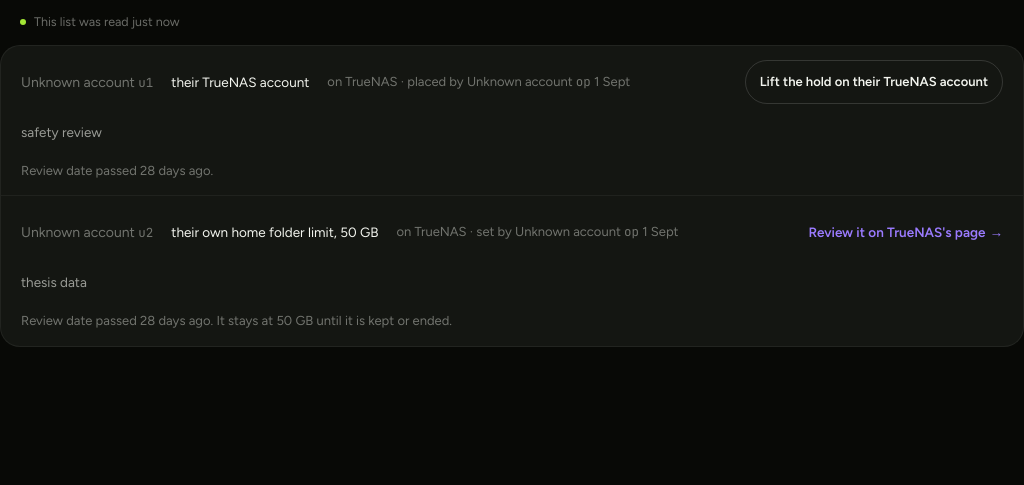
a hold's row states › a failed lift says nothing changed, quotes the reference, and offers Try again
Click the button "Lift the hold on their TrueNAS account".
click(874, 82)  # box left=745, top=60, right=1003, bottom=104
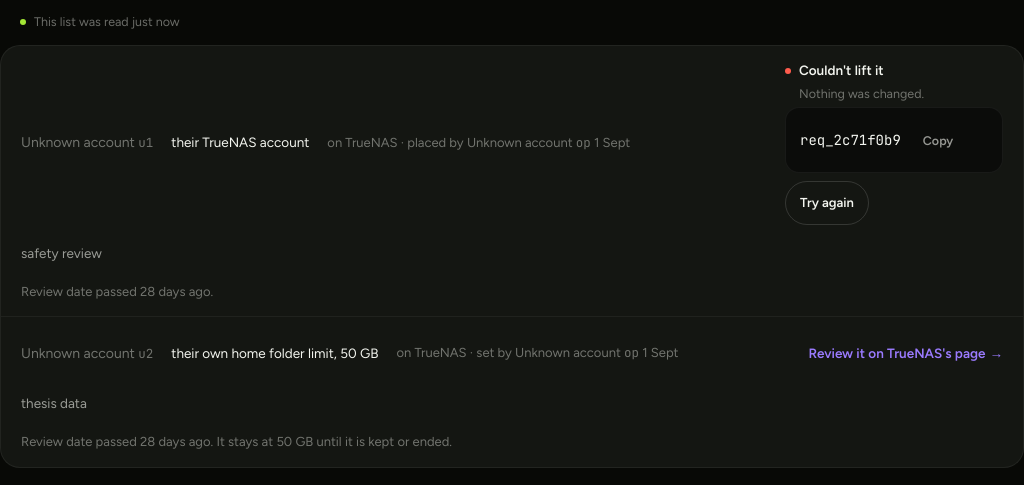
Check: the message shows "Couldn't lift it", box left=799, top=62, right=884, bottom=78
Check: the message shows "Nothing was changed.", box left=799, top=86, right=924, bottom=101
Check: the message shows "req_2c71f0b9", box left=800, top=131, right=901, bottom=149
Click the button "Try again".
click(827, 203)  # box left=785, top=181, right=869, bottom=225
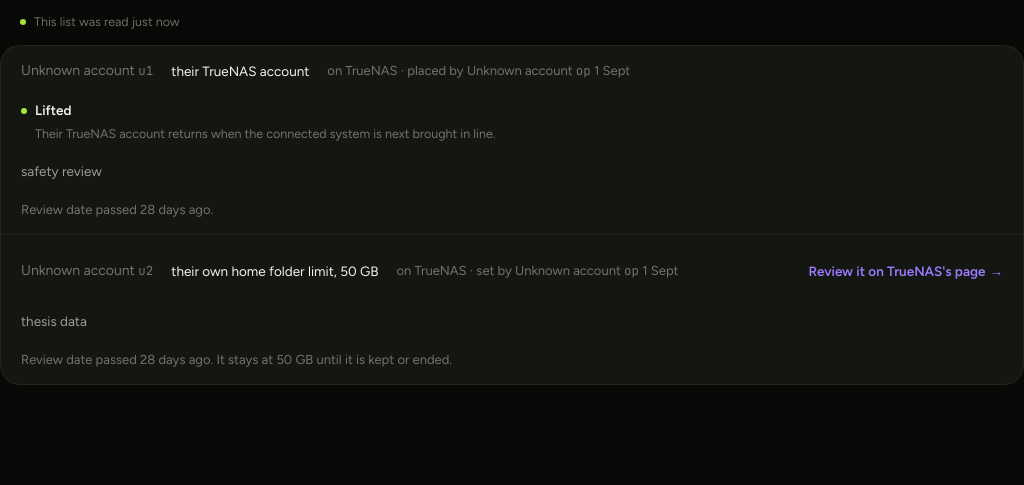
Check: the message shows "Lifted", box left=35, top=102, right=71, bottom=118
Check: the button "Try again" is gone
